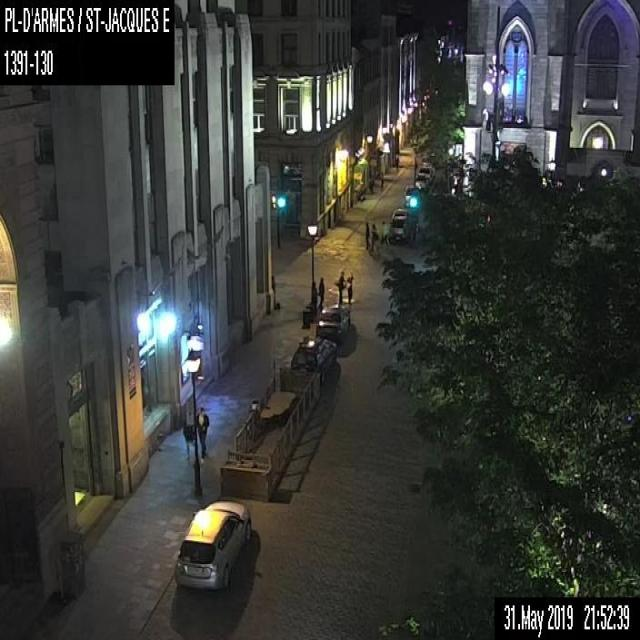pedestrian: (196, 404, 209, 464), (333, 269, 347, 303), (182, 419, 193, 461), (346, 270, 355, 303), (317, 276, 324, 307), (380, 219, 388, 244), (370, 222, 377, 248), (364, 222, 370, 248), (372, 234, 378, 255)
vehicle: (174, 497, 252, 591), (290, 336, 336, 383), (315, 305, 349, 340), (389, 208, 411, 242), (403, 184, 421, 209), (414, 172, 428, 190)
